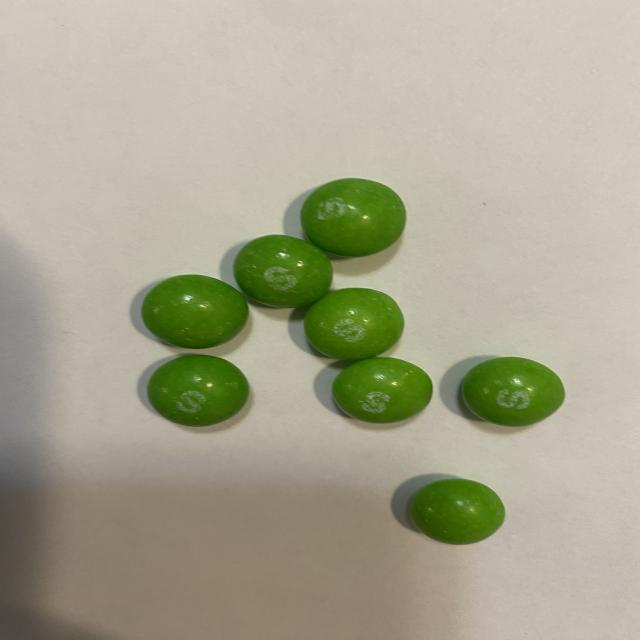smartie: (300, 178, 406, 257), (141, 275, 248, 349), (233, 235, 332, 308), (462, 357, 565, 427), (304, 288, 404, 360), (146, 356, 248, 426), (332, 358, 432, 423), (410, 479, 505, 545)
